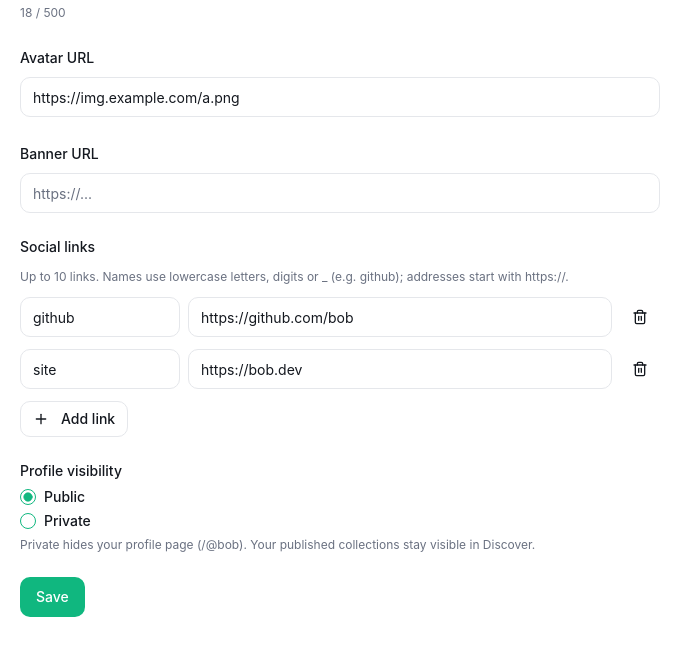
Test: server errors › 9: server errors are cleared on the next submit
(page scrolled)
What coordinates should you click on to do the following:
click the button "Save"
I would click on:
 (52, 597)
Its box is [20,577,85,617].
(page scrolled)
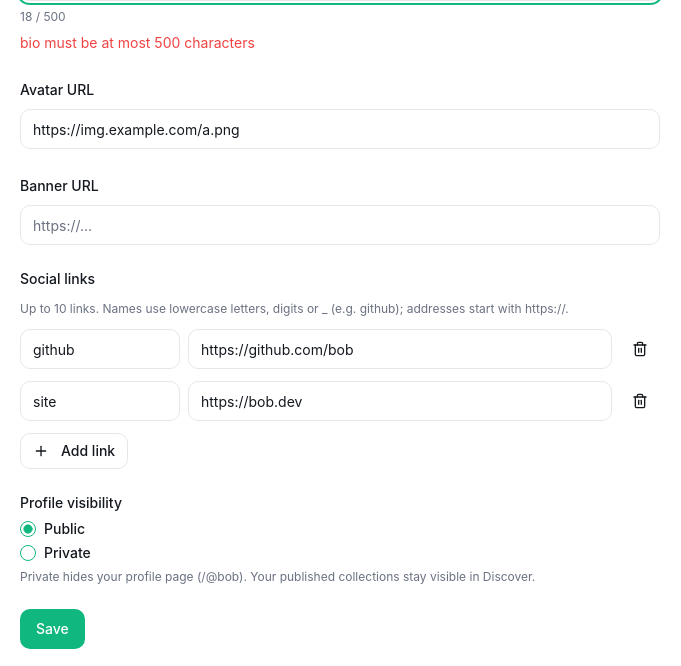
Now the text "bio must be at most 500 characters" is shown, box [20,34,255,51]
What coordinates should you click on to do the following:
click the button "Save"
I would click on:
 (52, 629)
Its box is [20,609,85,649].
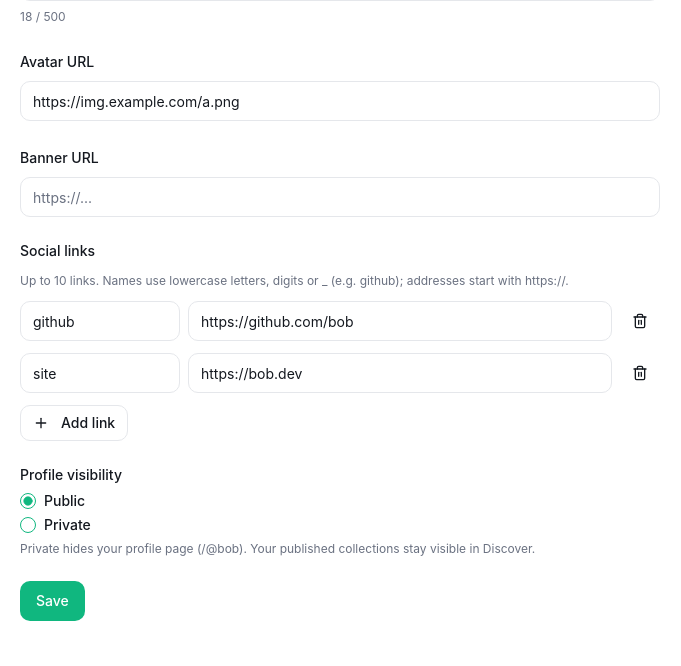
Now the text "bio must be at most 500 characters" is gone
